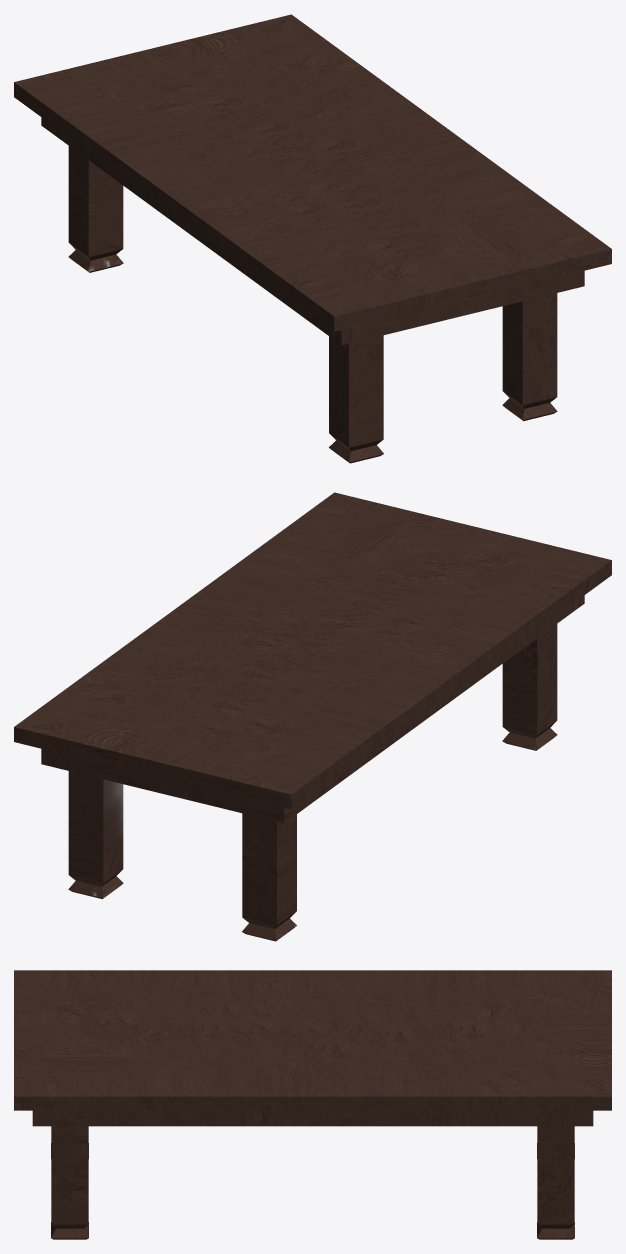
Rendered from LivingRoomCoffeeTableComplete.fbx.
The picture shows the model from 3 angles, top to bottom: view 1: azimuth 30°, elevation 25°; view 2: azimuth 150°, elevation 25°; view 3: azimuth 270°, elevation 25°; orthographic projection. The views are drawn at different scales.
Visible parts, largest first — view 1: LivingRoomCoffeeTable, LivingRoomCoffeeTable.002; view 2: LivingRoomCoffeeTable, LivingRoomCoffeeTable.001, LivingRoomCoffeeTable.002; view 3: LivingRoomCoffeeTable, LivingRoomCoffeeTable.001, LivingRoomCoffeeTable.002.
Boxes of the visible parts, x1,y1,x2,y2 form: LivingRoomCoffeeTable: (14, 14, 611, 451); LivingRoomCoffeeTable.002: (68, 250, 557, 419); LivingRoomCoffeeTable: (14, 492, 611, 929); LivingRoomCoffeeTable.001: (68, 728, 557, 899); LivingRoomCoffeeTable.002: (242, 918, 296, 941); LivingRoomCoffeeTable: (14, 970, 611, 1228); LivingRoomCoffeeTable.001: (51, 1143, 574, 1239); LivingRoomCoffeeTable.002: (51, 1143, 574, 1238).
Bounding box in the file's own units: 200 × 118 × 400.
Materials: 1 (1 with a texture image).
